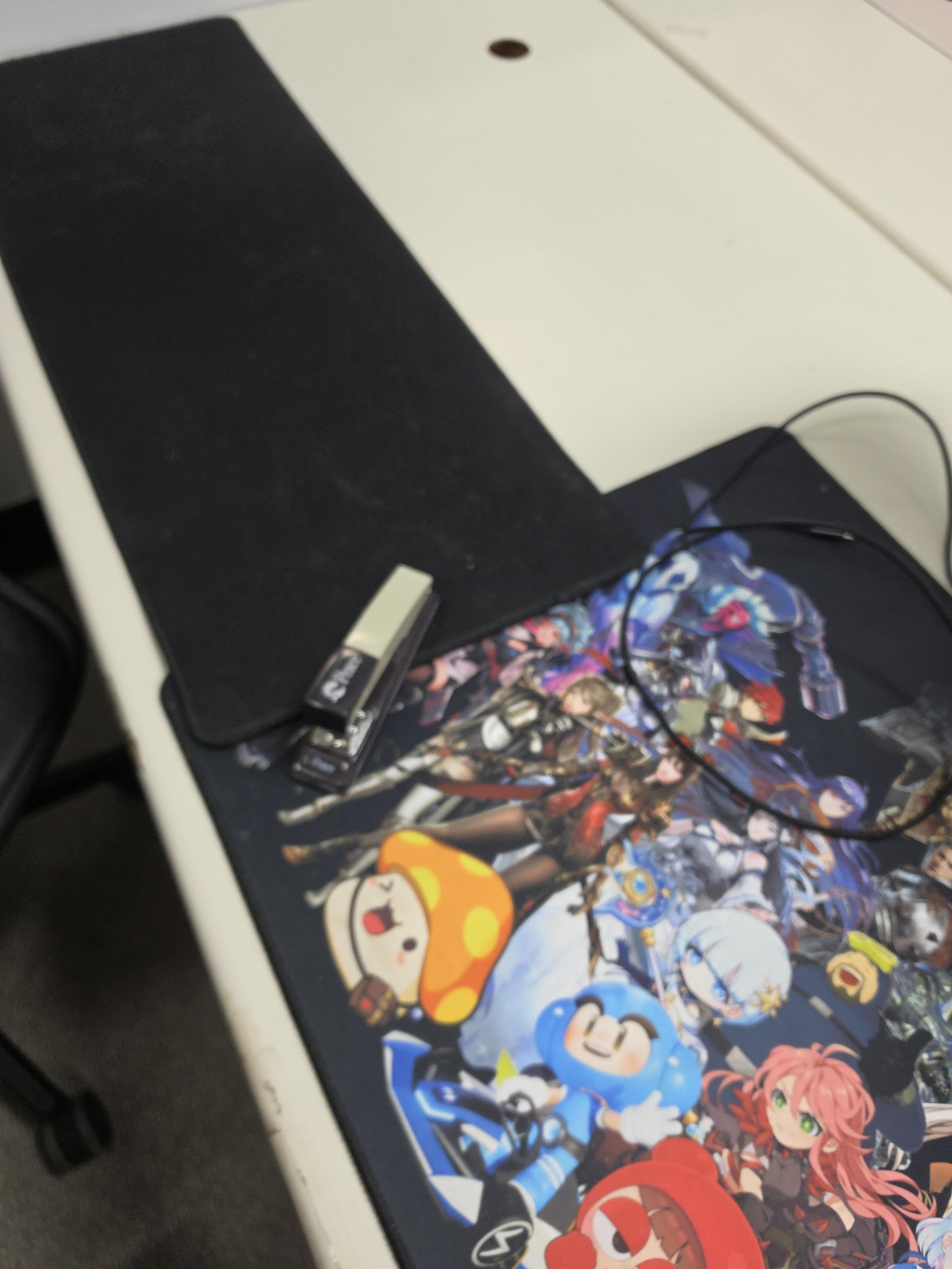stapler: (289, 562, 442, 793)
